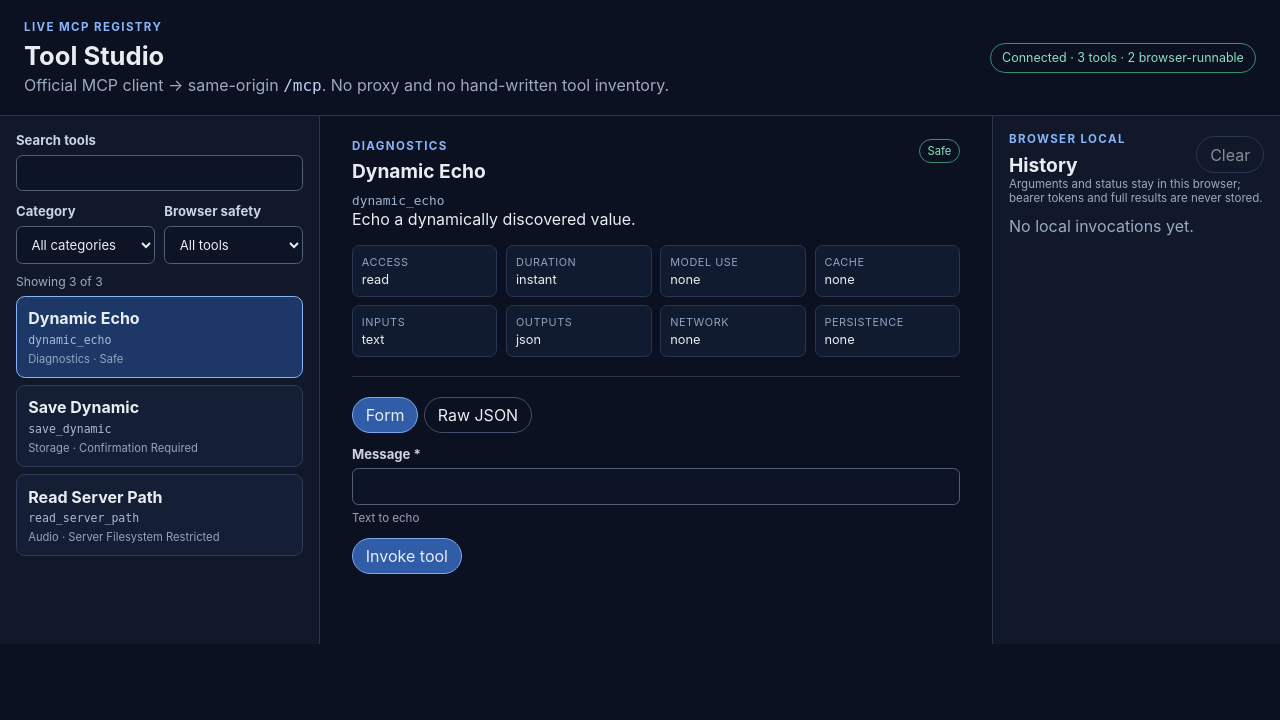
Test: ToolStudio › cancels an in-flight request through AbortSignal and records cancellation locally
This screenshot has width=1280, height=720.
Expected: the text "Connected · 3 tools · 2 browser-runnable" is shown, [990,43,1256,73]
Step 1. Type "wait" into the field labelled "Message * Text to echo" → (656, 486), box [352,468,960,505]
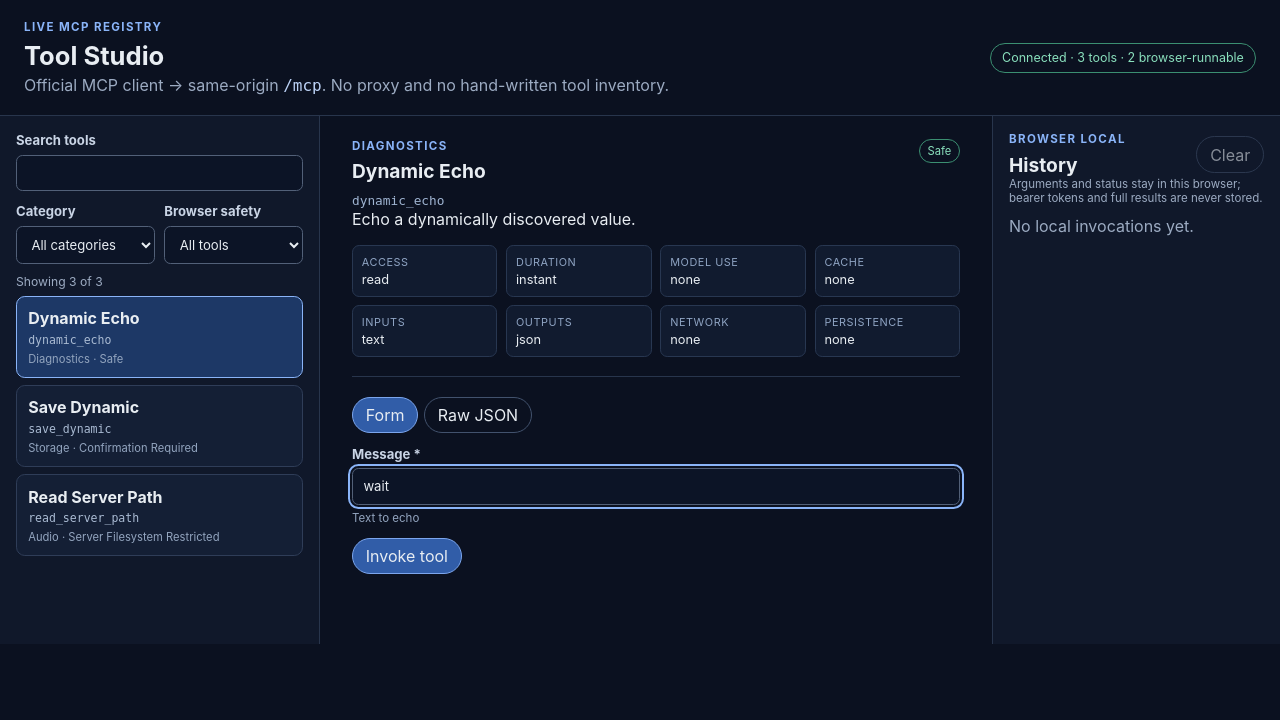
Step 2. Click the button "Invoke tool" → click(407, 556), box [352,538,462,574]
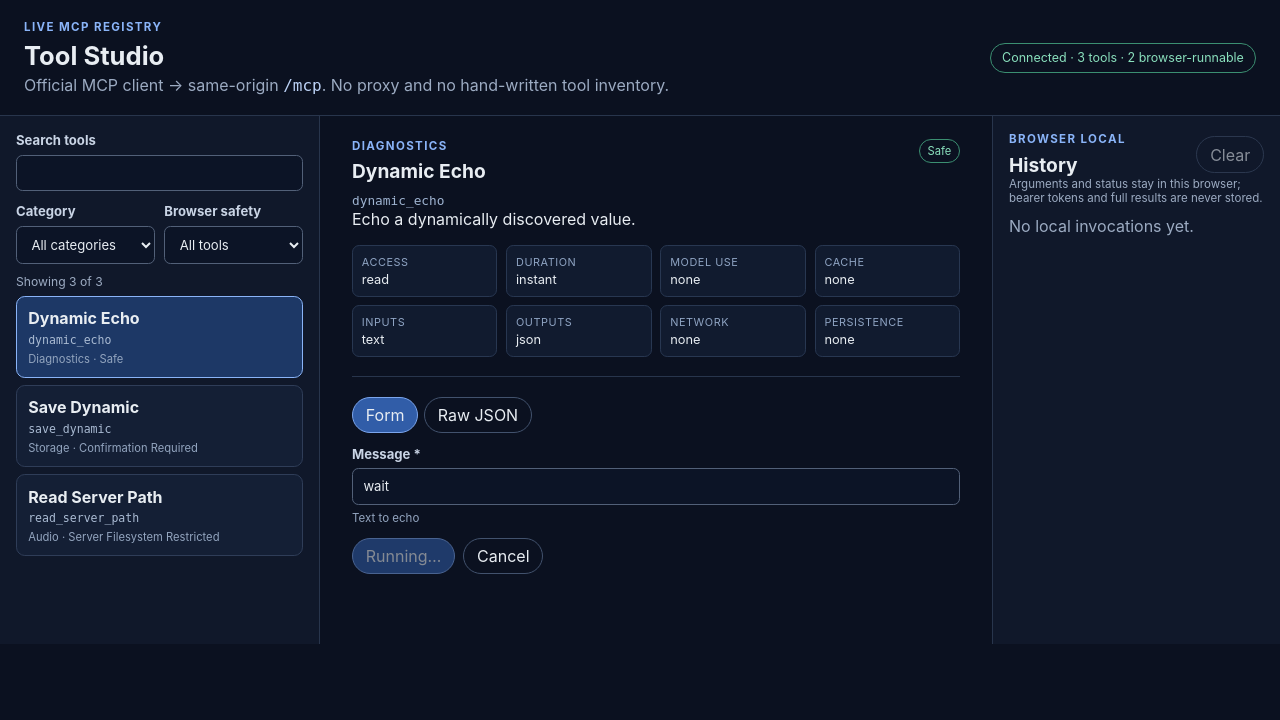
Step 3. Click the button "Cancel" → click(503, 556), box [463,538,543,574]
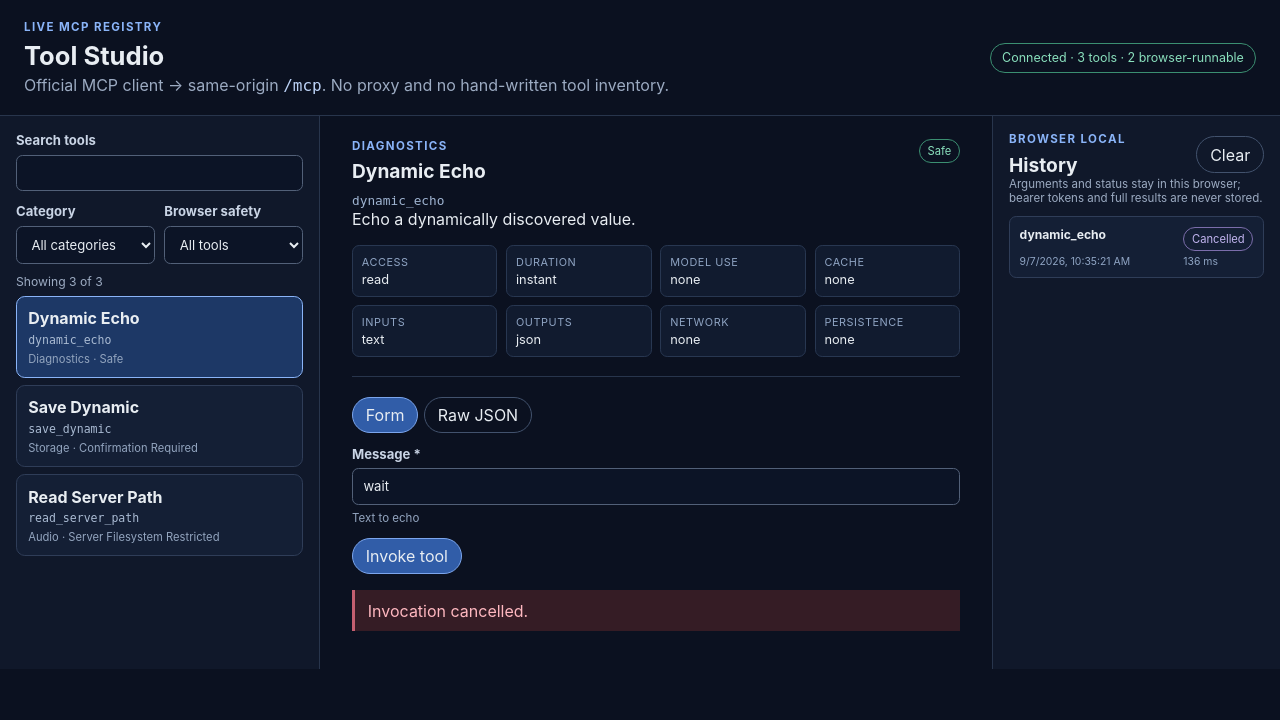
Expected: the message "Invocation cancelled." is shown, [352,590,960,631]
Expected: the button "dynamic_echo cancelled 9/7/2026, 10:35:21 AM 136 ms" is shown, [1009,216,1264,278]
